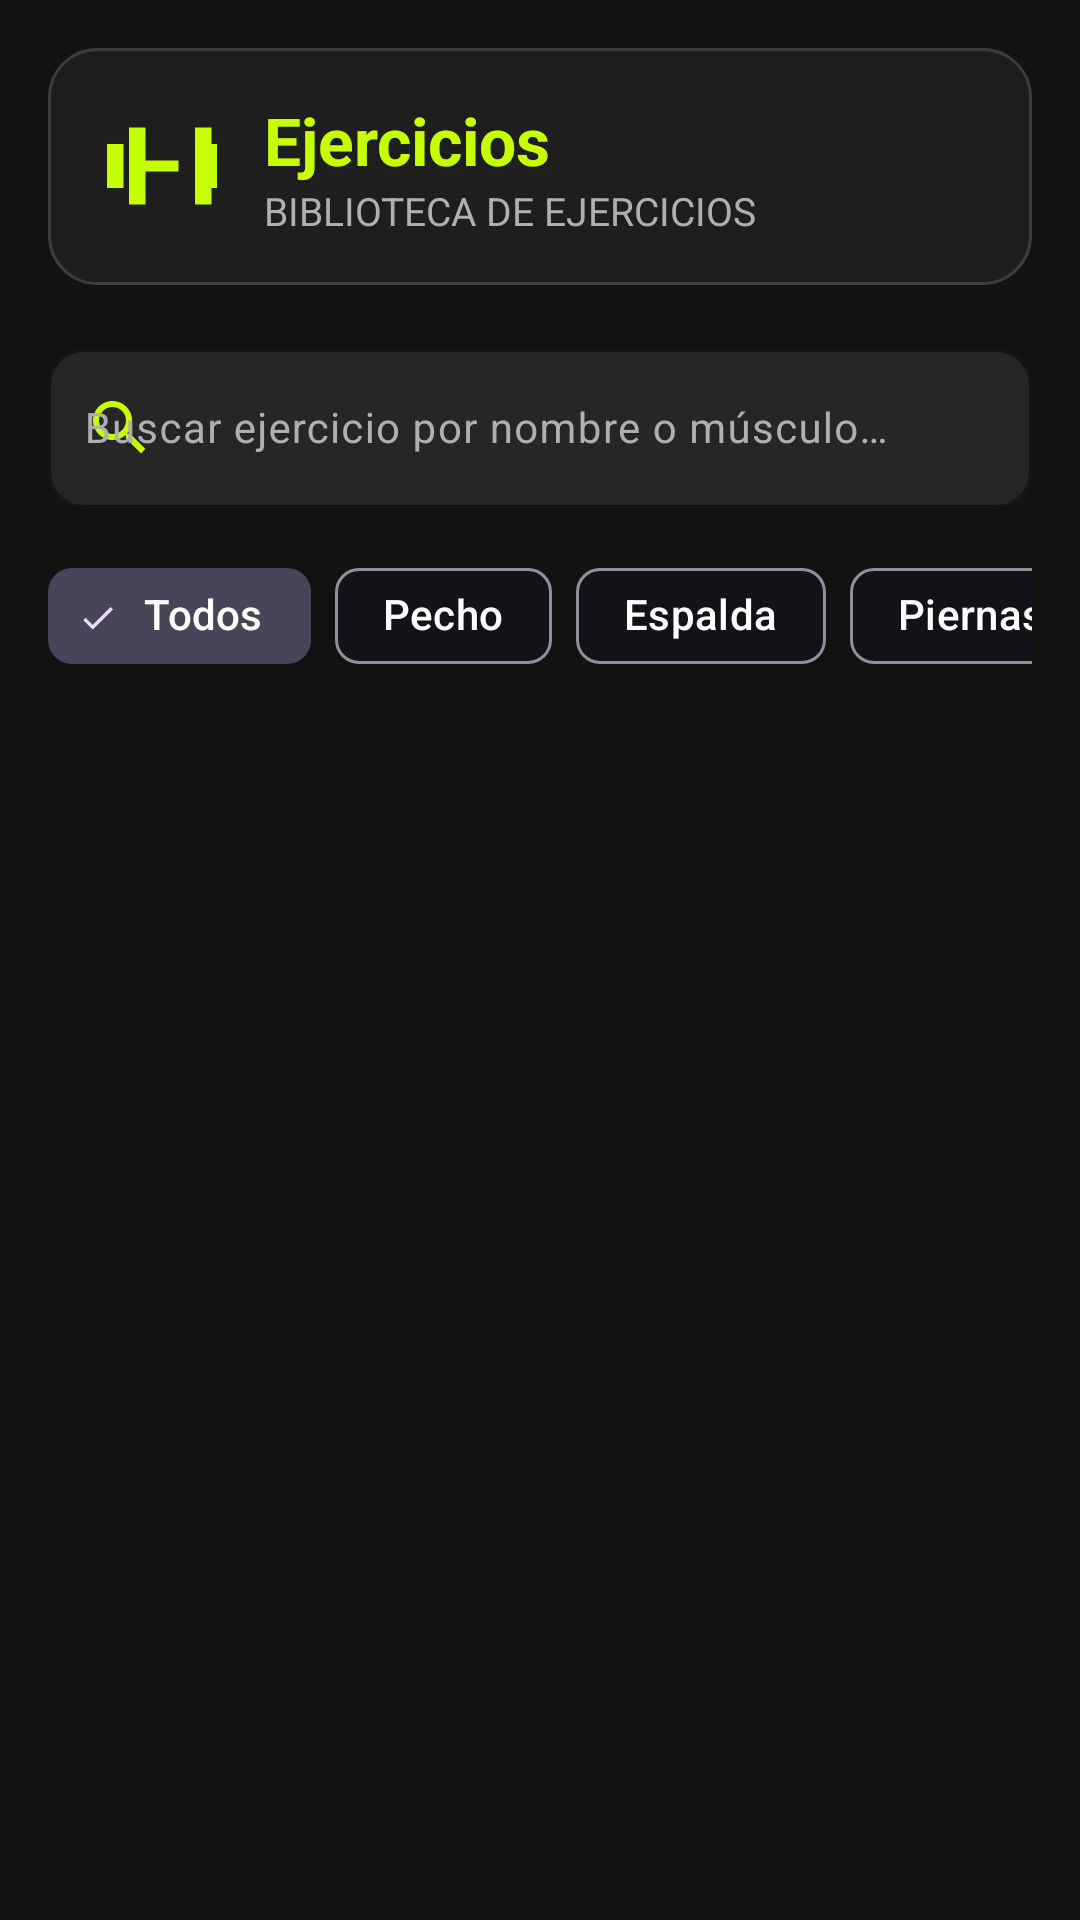

Icons on this 1080w x 1920h Android screen, each with the point to tap as (x,y):
dumbbell: (162,166)
